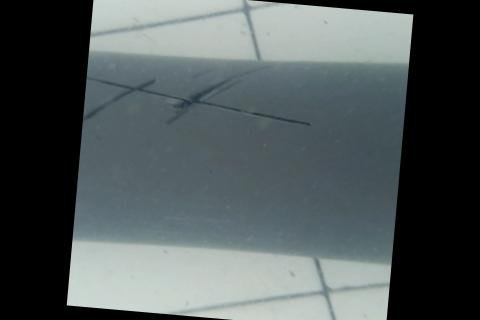keretakan: (82, 48, 320, 144)
